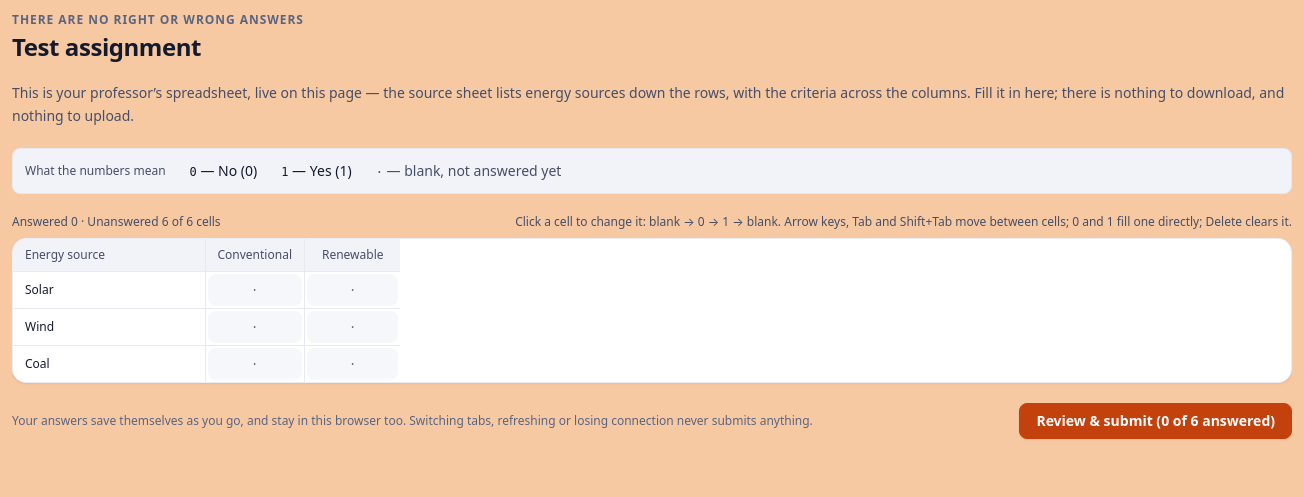
Test: no automatic submission — answer grid › never submits when the excluded events land on the review step
Click the button named "Solar — Conventional" at (255, 290), box [208,274,302,306]
Wait 1000 ms
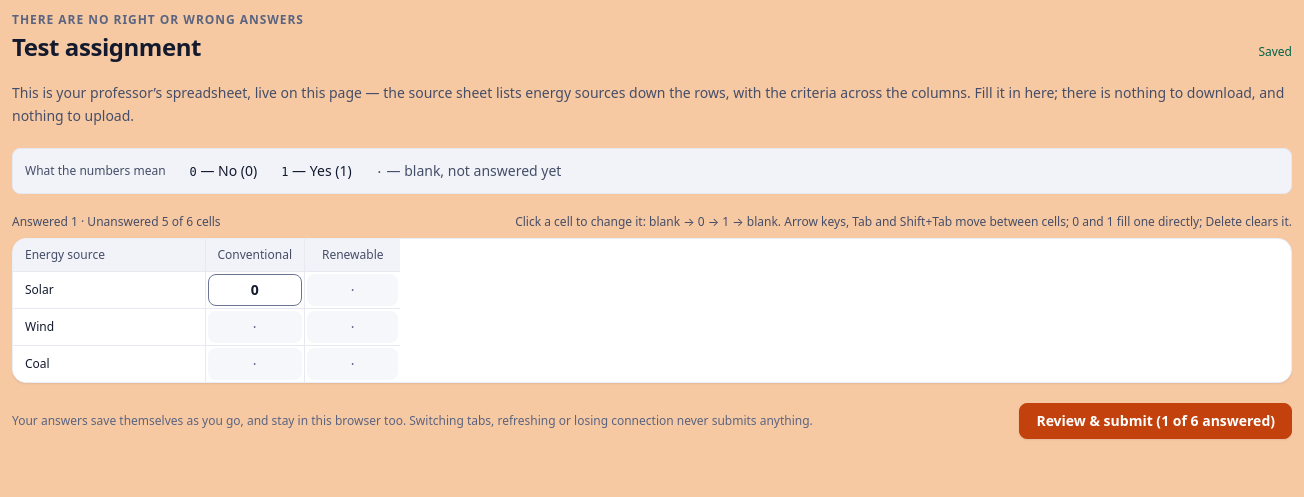
Click the button "Review & submit (1 of 6 answered)" at (1156, 420), box [1019,402,1292,438]
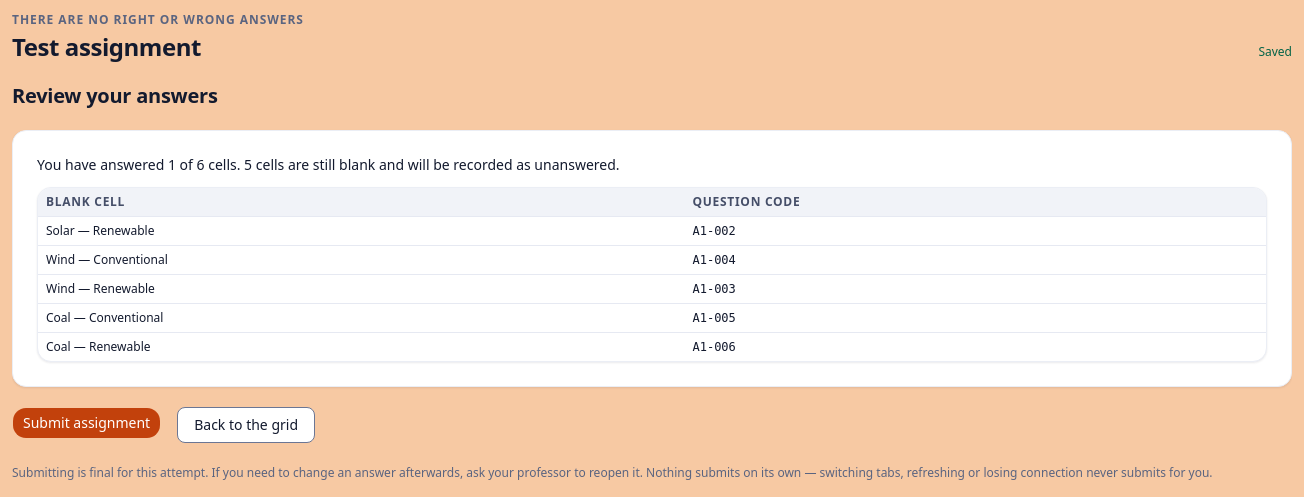
Check: the heading "Review your answers" is shown, box [12,82,218,109]
